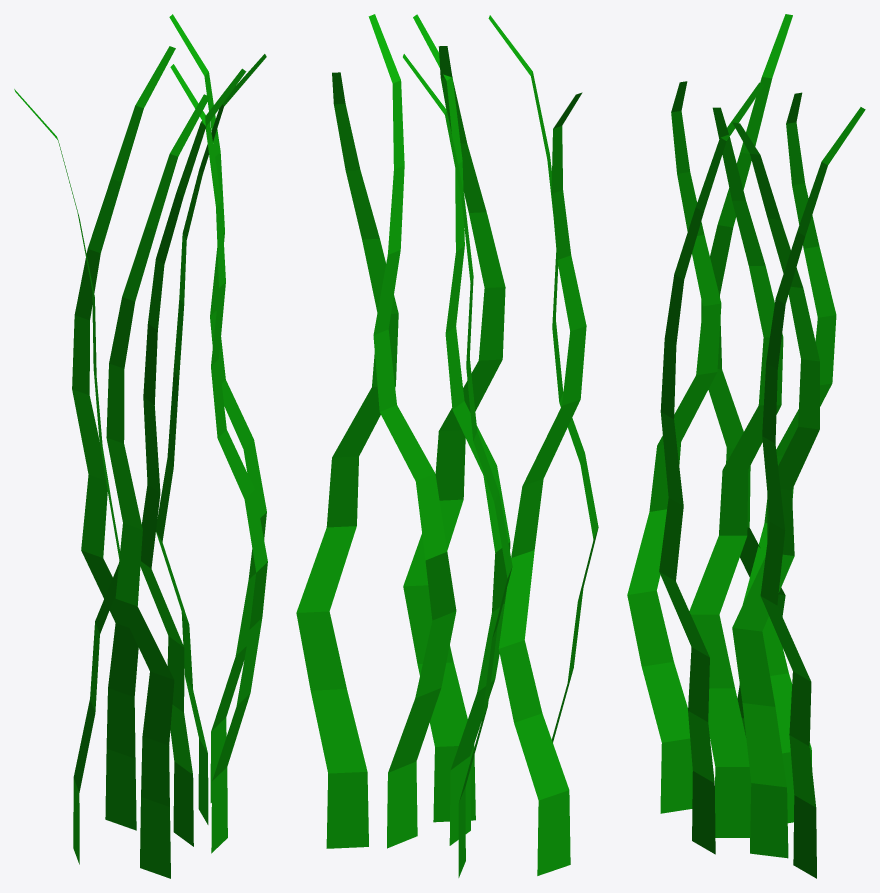
File: my_mesh_Algae1.glb
3 renders of one model, left to right at view 1: azimuth 30°, elevation 25°; view 2: azimuth 150°, elevation 25°; view 3: azimuth 270°, elevation 25°, orthographic. The views are drawn at different scales.
Visible parts, largest first — view 1: Algae1; view 2: Algae1; view 3: Algae1.
Boxes of the visible parts, <box> form: Algae1: <box>14,14,267,878</box>; Algae1: <box>296,14,598,877</box>; Algae1: <box>627,14,865,878</box>.
Bounding box in the file's own units: 0.6897 × 1.94 × 0.5553.
1 material, 1 textured.
